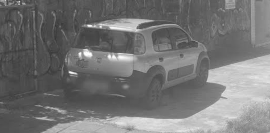car: (61, 17, 214, 106)
